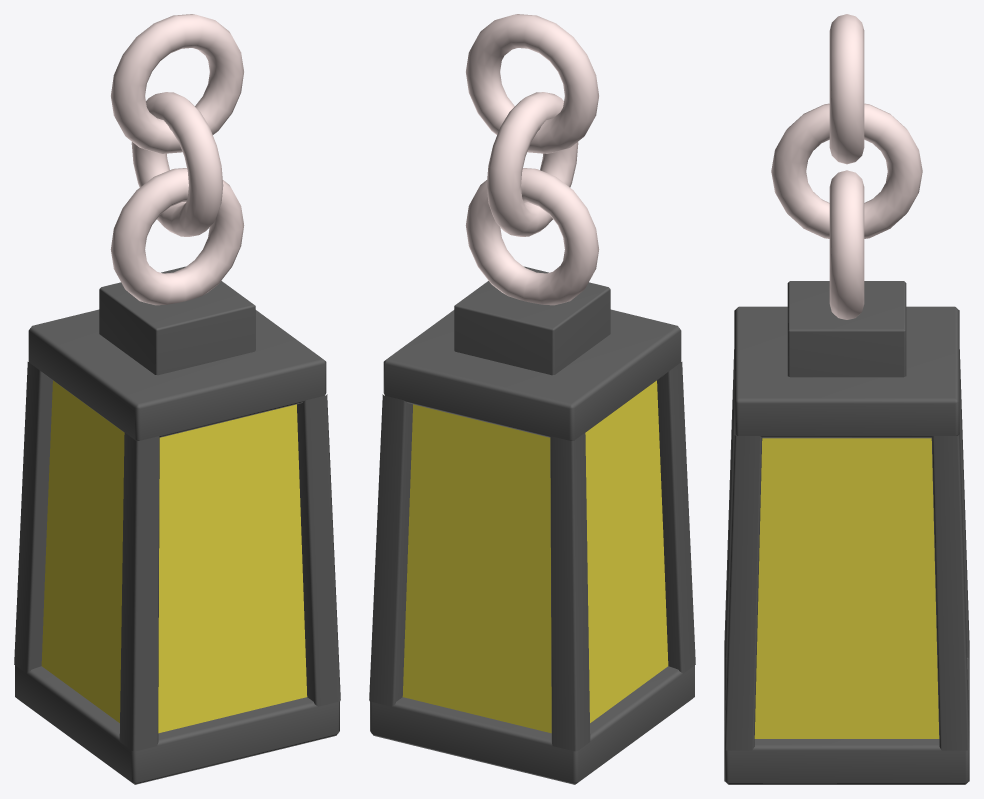
The model's file is Town_19_Outdoor_Lamp_1.glb.
The picture shows the model from 3 angles, left to right: view 1: azimuth 30°, elevation 25°; view 2: azimuth 150°, elevation 25°; view 3: azimuth 270°, elevation 25°; orthographic projection.
Parts seen in each view (by area): view 1: Town_19_Outdoor_Lamp_1; view 2: Town_19_Outdoor_Lamp_1; view 3: Town_19_Outdoor_Lamp_1.
Boxes of the visible parts, x1=… form: Town_19_Outdoor_Lamp_1: x1=14, y1=14, x2=340, y2=784; Town_19_Outdoor_Lamp_1: x1=369, y1=14, x2=695, y2=784; Town_19_Outdoor_Lamp_1: x1=724, y1=14, x2=969, y2=784.
Size of the model in its own units: 0.265 by 0.8511 by 0.265.
1 material, 1 textured.
